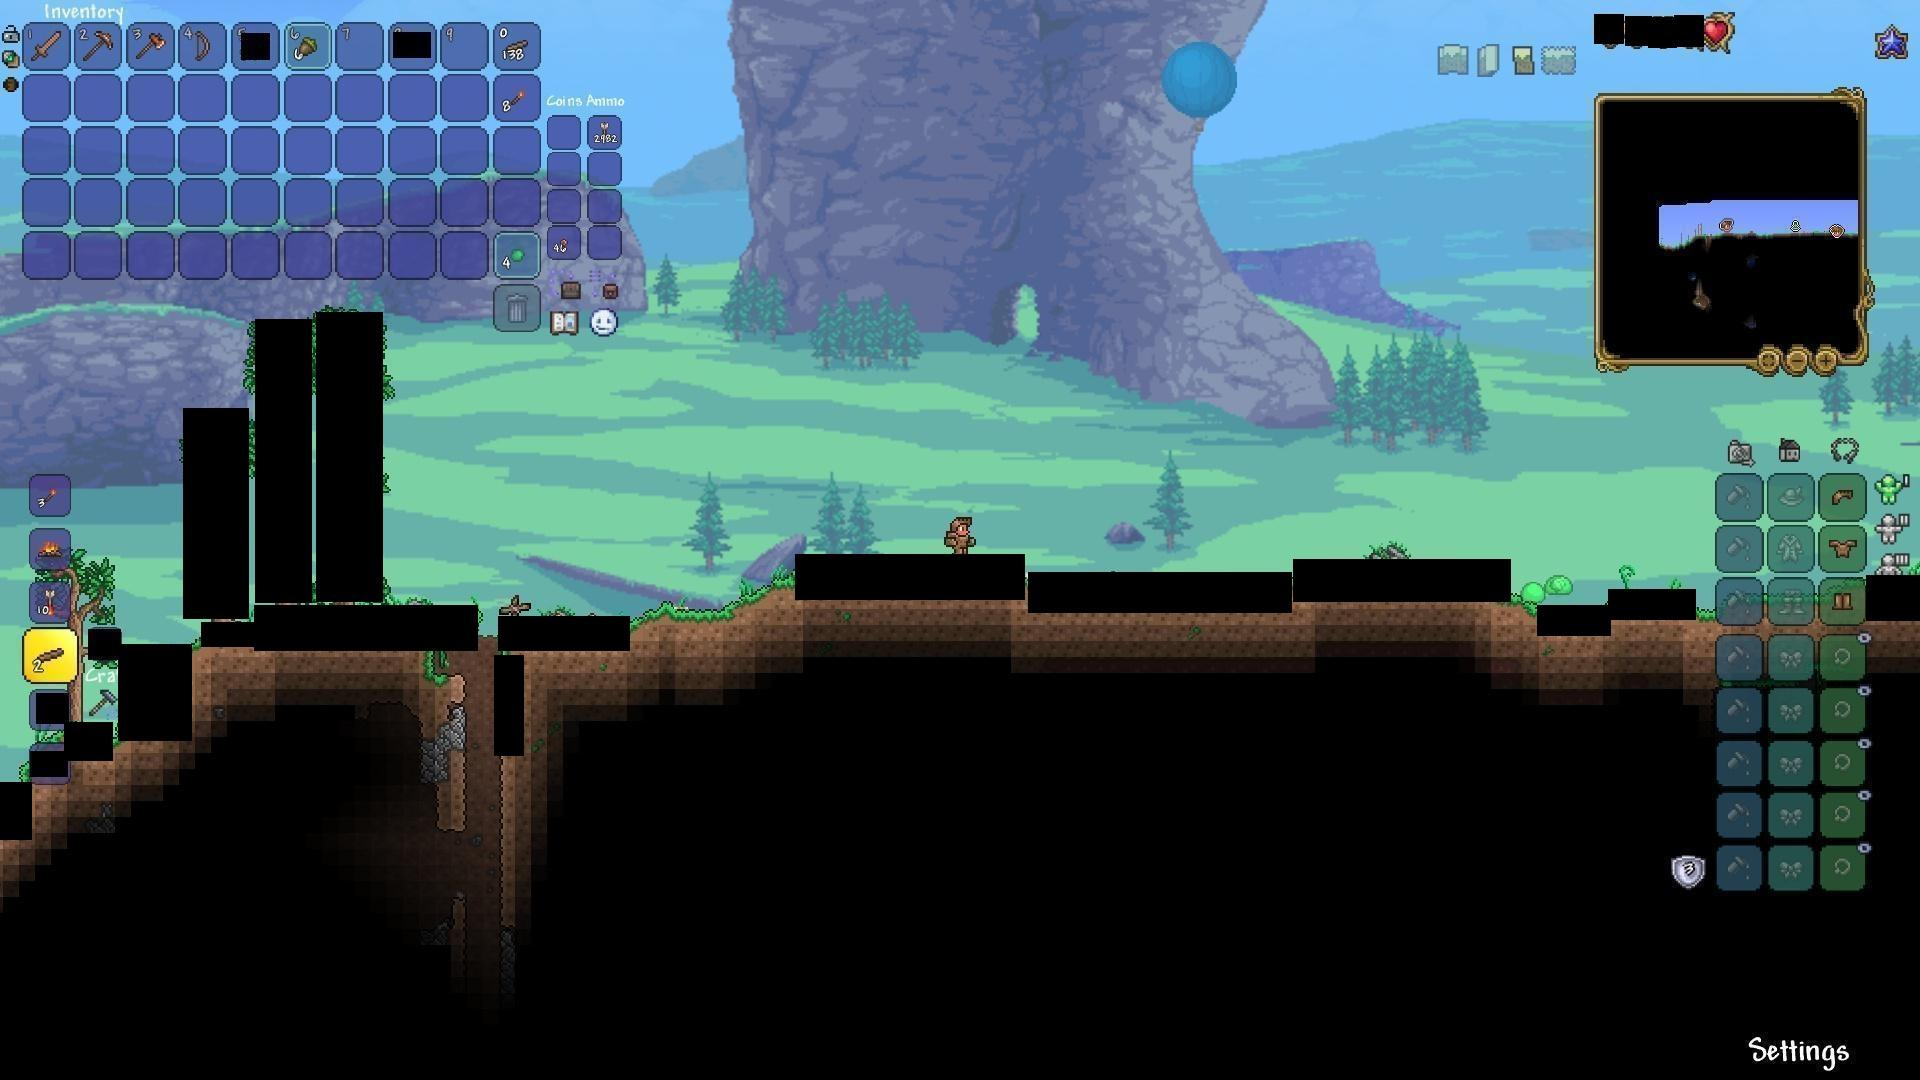breastplate: (1830, 535, 1859, 558)
dirt: (634, 572, 791, 640)
heart: (1704, 16, 1731, 47)
helmet: (1828, 484, 1857, 510)
legs: (1832, 589, 1855, 615)
slime: (1545, 568, 1571, 597), (1520, 582, 1545, 609)
tree: (55, 543, 109, 721)
